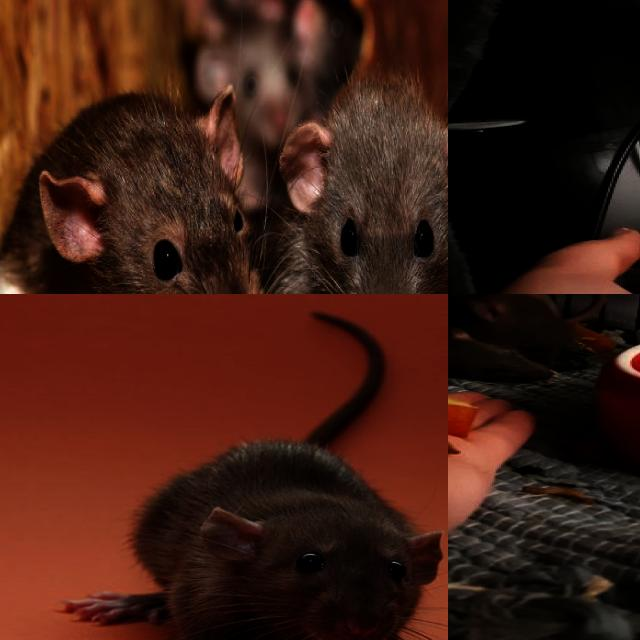rat: (130, 440, 448, 640), (24, 62, 283, 294), (264, 40, 448, 294), (448, 312, 562, 383), (448, 294, 585, 351)
